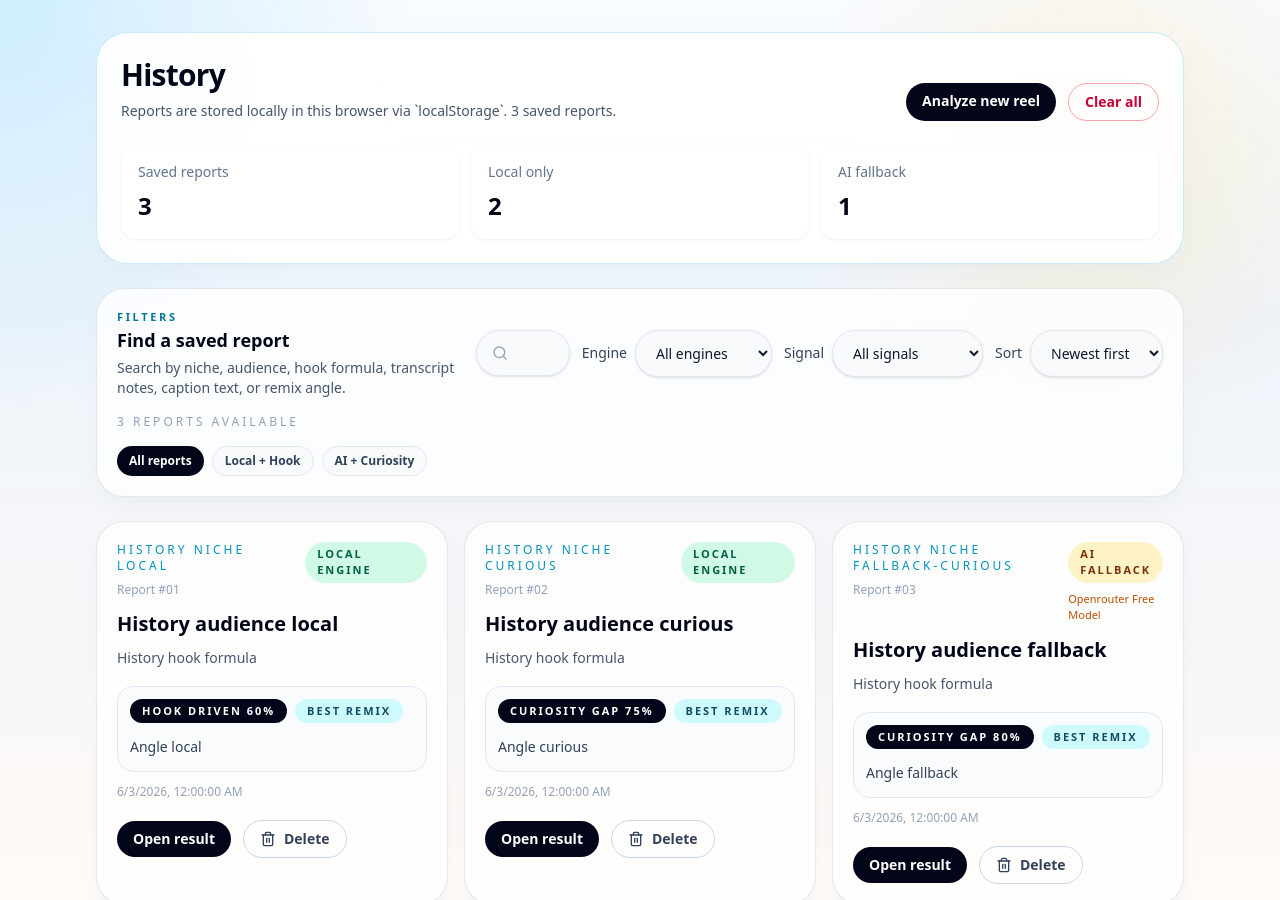
it: HistoryPage › applies combined presets for common engine and signal combinations
This screenshot has width=1280, height=900.
Click the button "AI + Curiosity": click(374, 460) [322, 446, 427, 476]
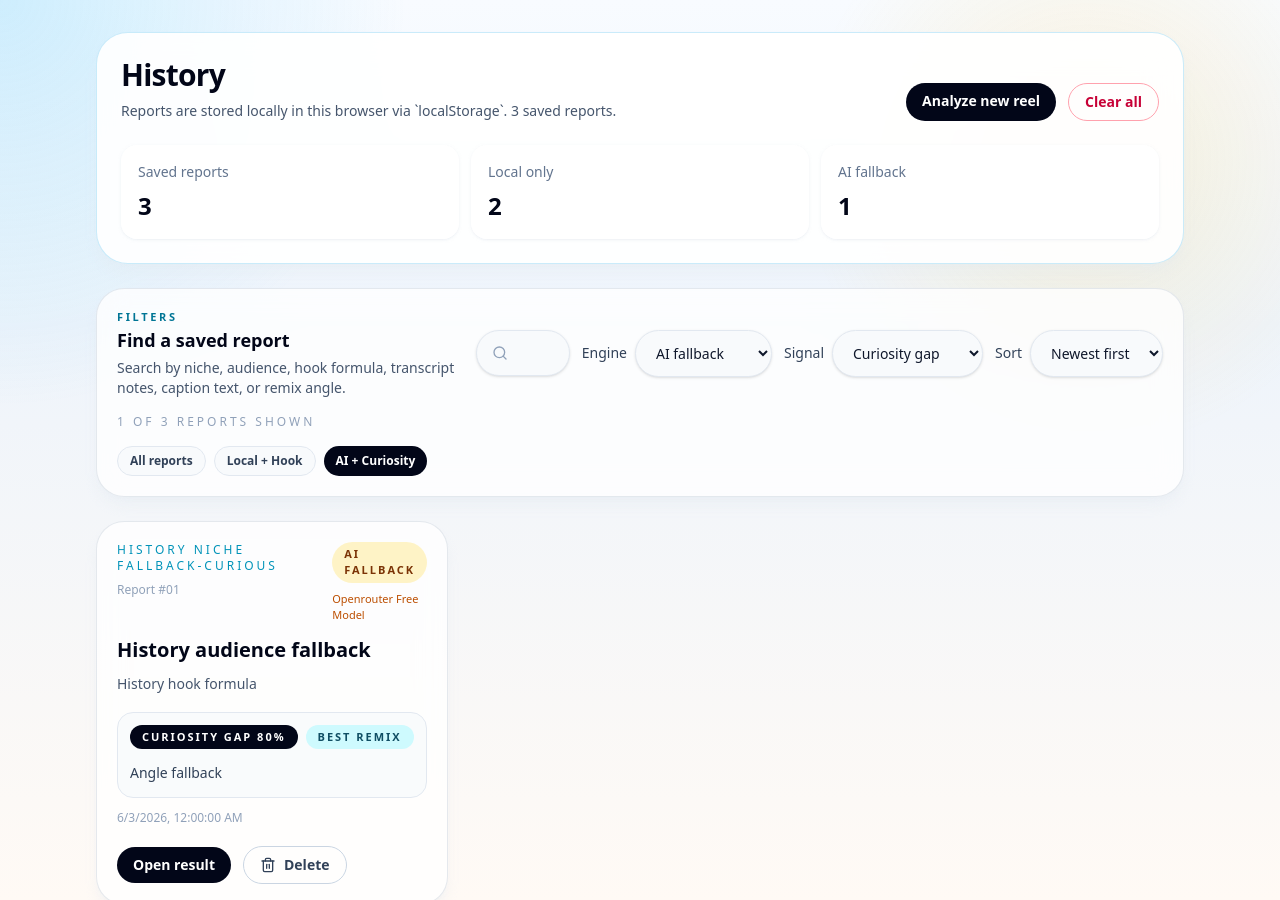
Now the text "History niche local" is gone
Now the text "History niche curious" is gone
Now the text "1 of 3 reports shown" is shown, box [117, 412, 315, 430]
